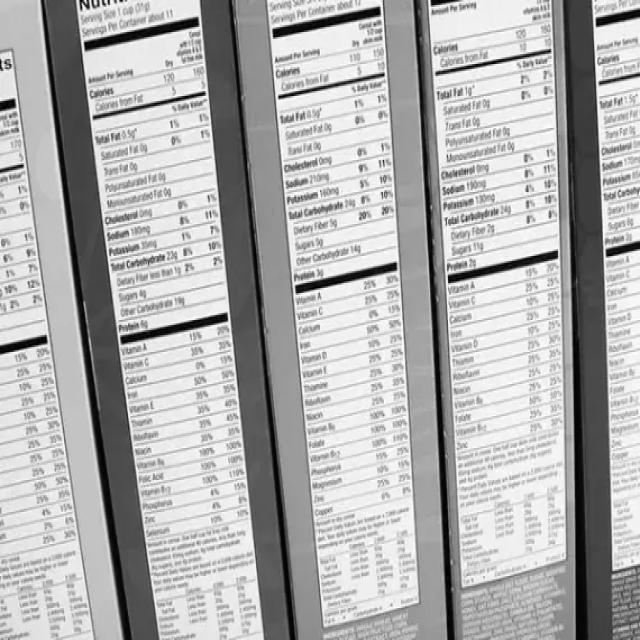Nutrition Label: (71, 0, 255, 531), (266, 2, 416, 533), (425, 0, 570, 460)
